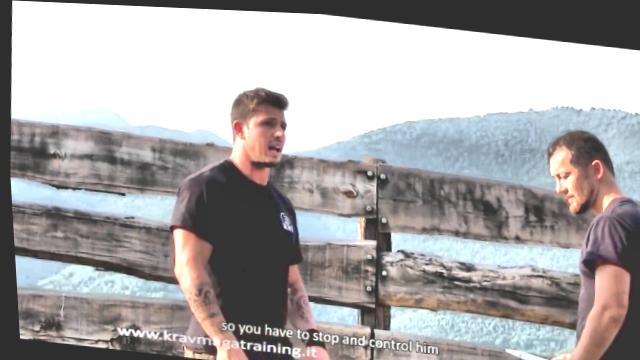knife: (487, 336, 559, 360)
